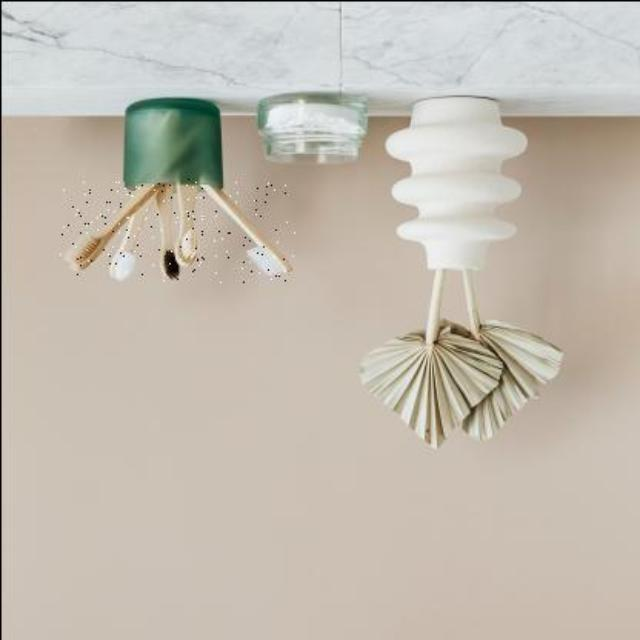toothbrush: (56, 180, 164, 274), (210, 178, 294, 282), (100, 180, 154, 286), (142, 180, 184, 286), (165, 178, 203, 270)
